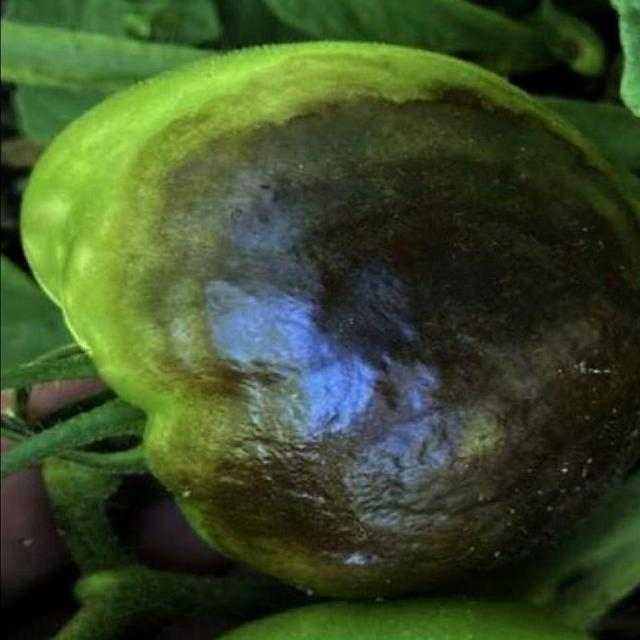Blossom End Rot Fruit: (77, 66, 427, 401)
